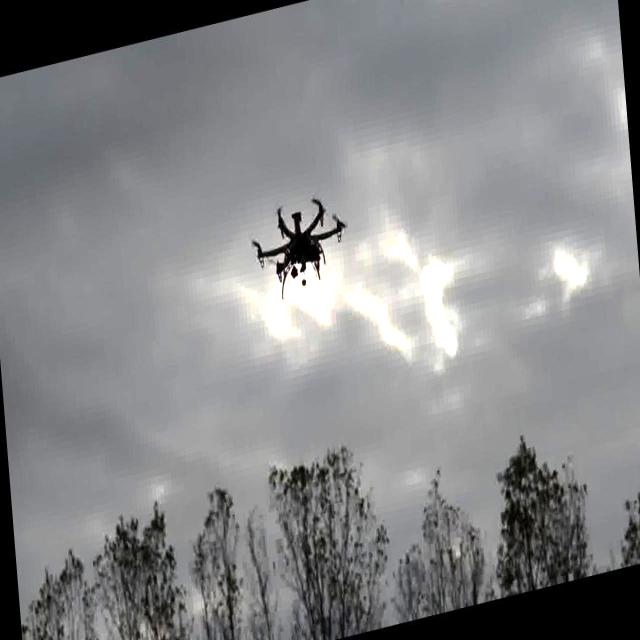drone: (249, 181, 349, 306)
